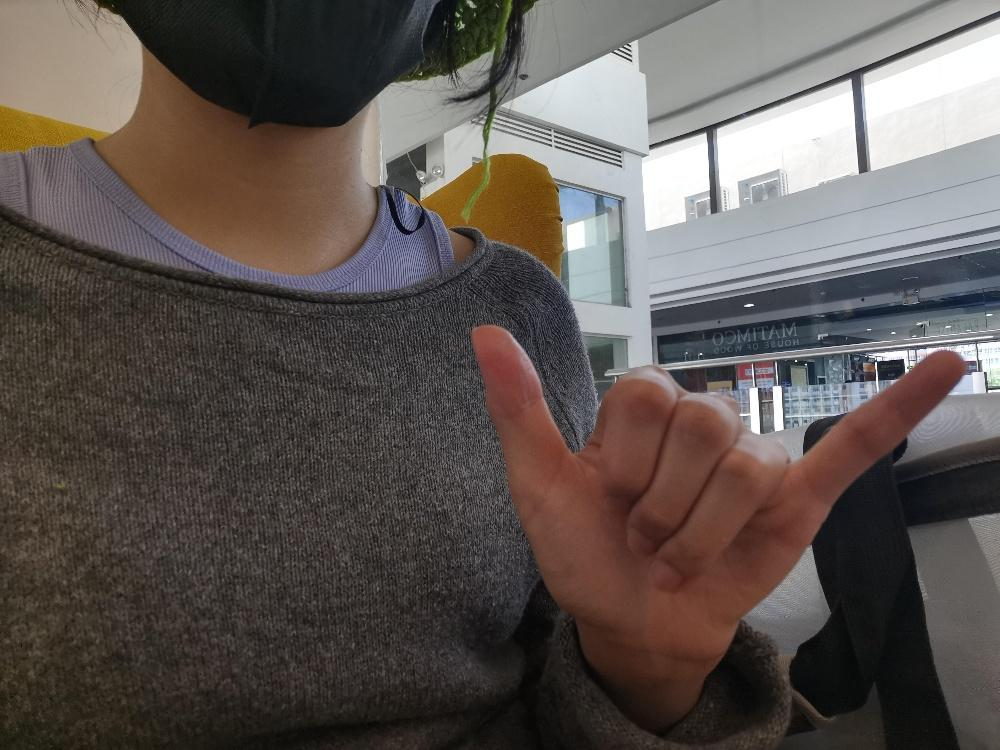y: (467, 318, 968, 657)
